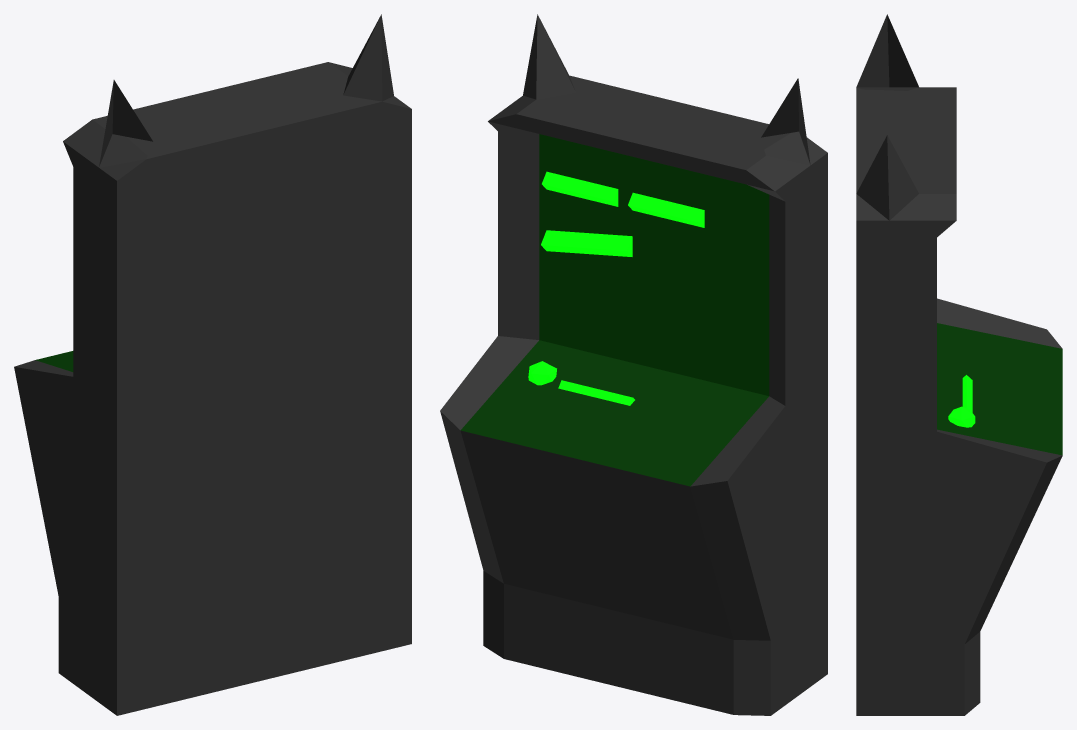
The model's file is Caterminal.glb.
The picture shows the model from 3 angles, left to right: view 1: azimuth 30°, elevation 25°; view 2: azimuth 150°, elevation 25°; view 3: azimuth 270°, elevation 25°; orthographic projection. The views are drawn at different scales.
Parts seen in each view (by area): view 1: Cube; view 2: Cube; view 3: Cube.
Part boxes in pixels (bbox=[...]): Cube: bbox=[14, 14, 411, 715]; Cube: bbox=[440, 14, 827, 715]; Cube: bbox=[856, 14, 1062, 715].
Size of the model in its own units: 2 by 4.03 by 1.31.
